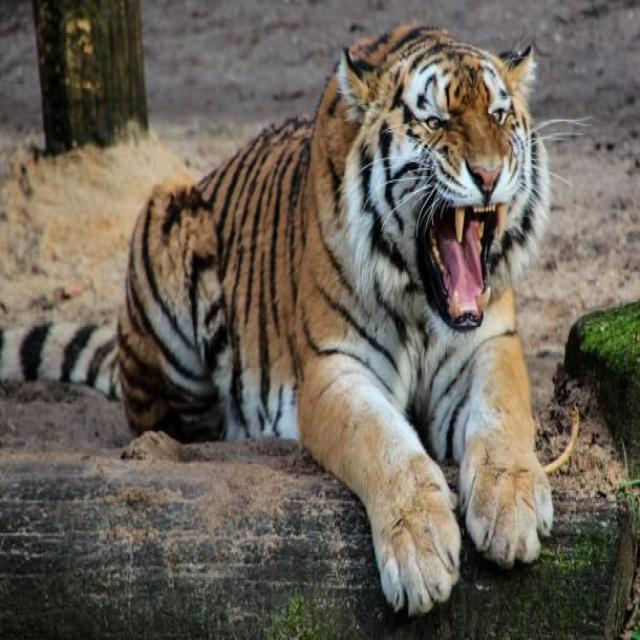Tiger: (0, 20, 590, 618)
